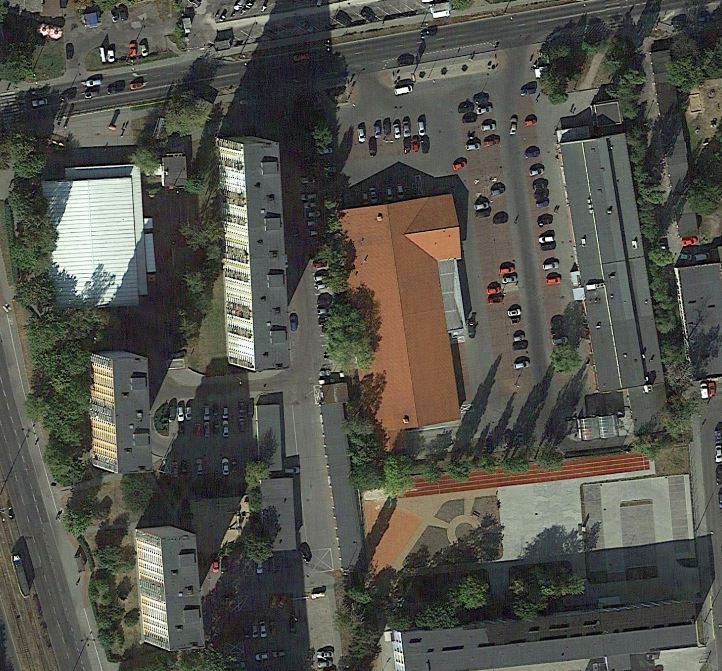block of flats: (387, 600, 716, 671), (214, 131, 291, 374), (76, 344, 158, 484), (130, 522, 214, 652)
shopping_center: (333, 175, 478, 444), (555, 128, 675, 395), (34, 155, 161, 313)
